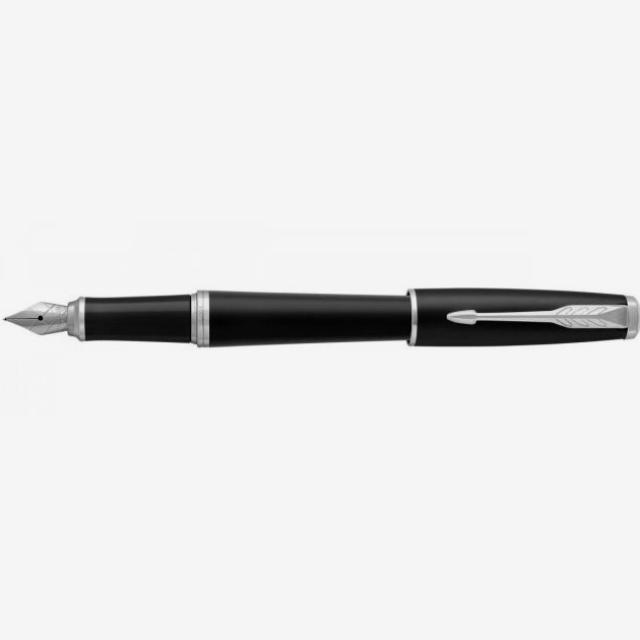pencil: (0, 287, 621, 398)
